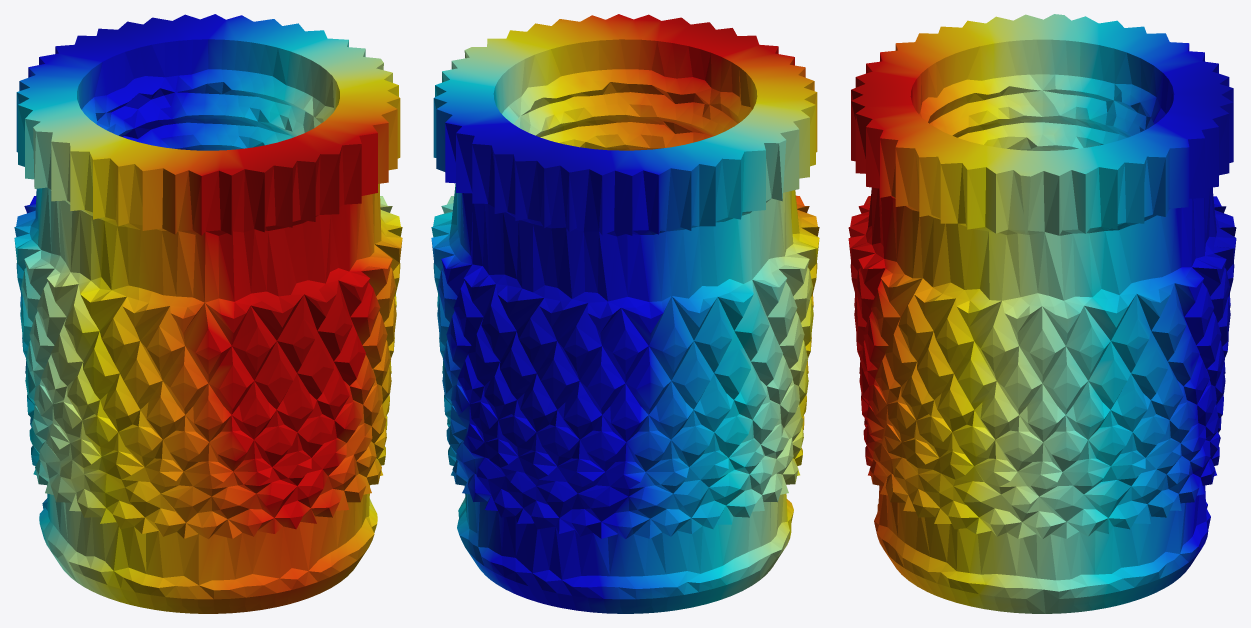
Rendered from fastener_fem_poisson.glb.
3 views of the same model, side by side, from view 1: azimuth 30°, elevation 25°; view 2: azimuth 150°, elevation 25°; view 3: azimuth 270°, elevation 25° (orthographic).
Visible parts, largest first — view 1: genus_1.obj; view 2: genus_1.obj; view 3: genus_1.obj.
Part boxes in pixels (bbox=[...]): genus_1.obj: bbox=[14, 14, 402, 613]; genus_1.obj: bbox=[431, 14, 819, 613]; genus_1.obj: bbox=[848, 14, 1236, 613].
Size of the model in its own units: 1.19 by 1.54 by 1.19.
